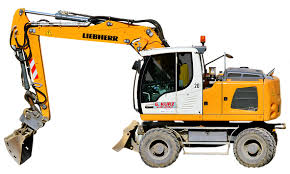excavator: (8, 7, 286, 168)
